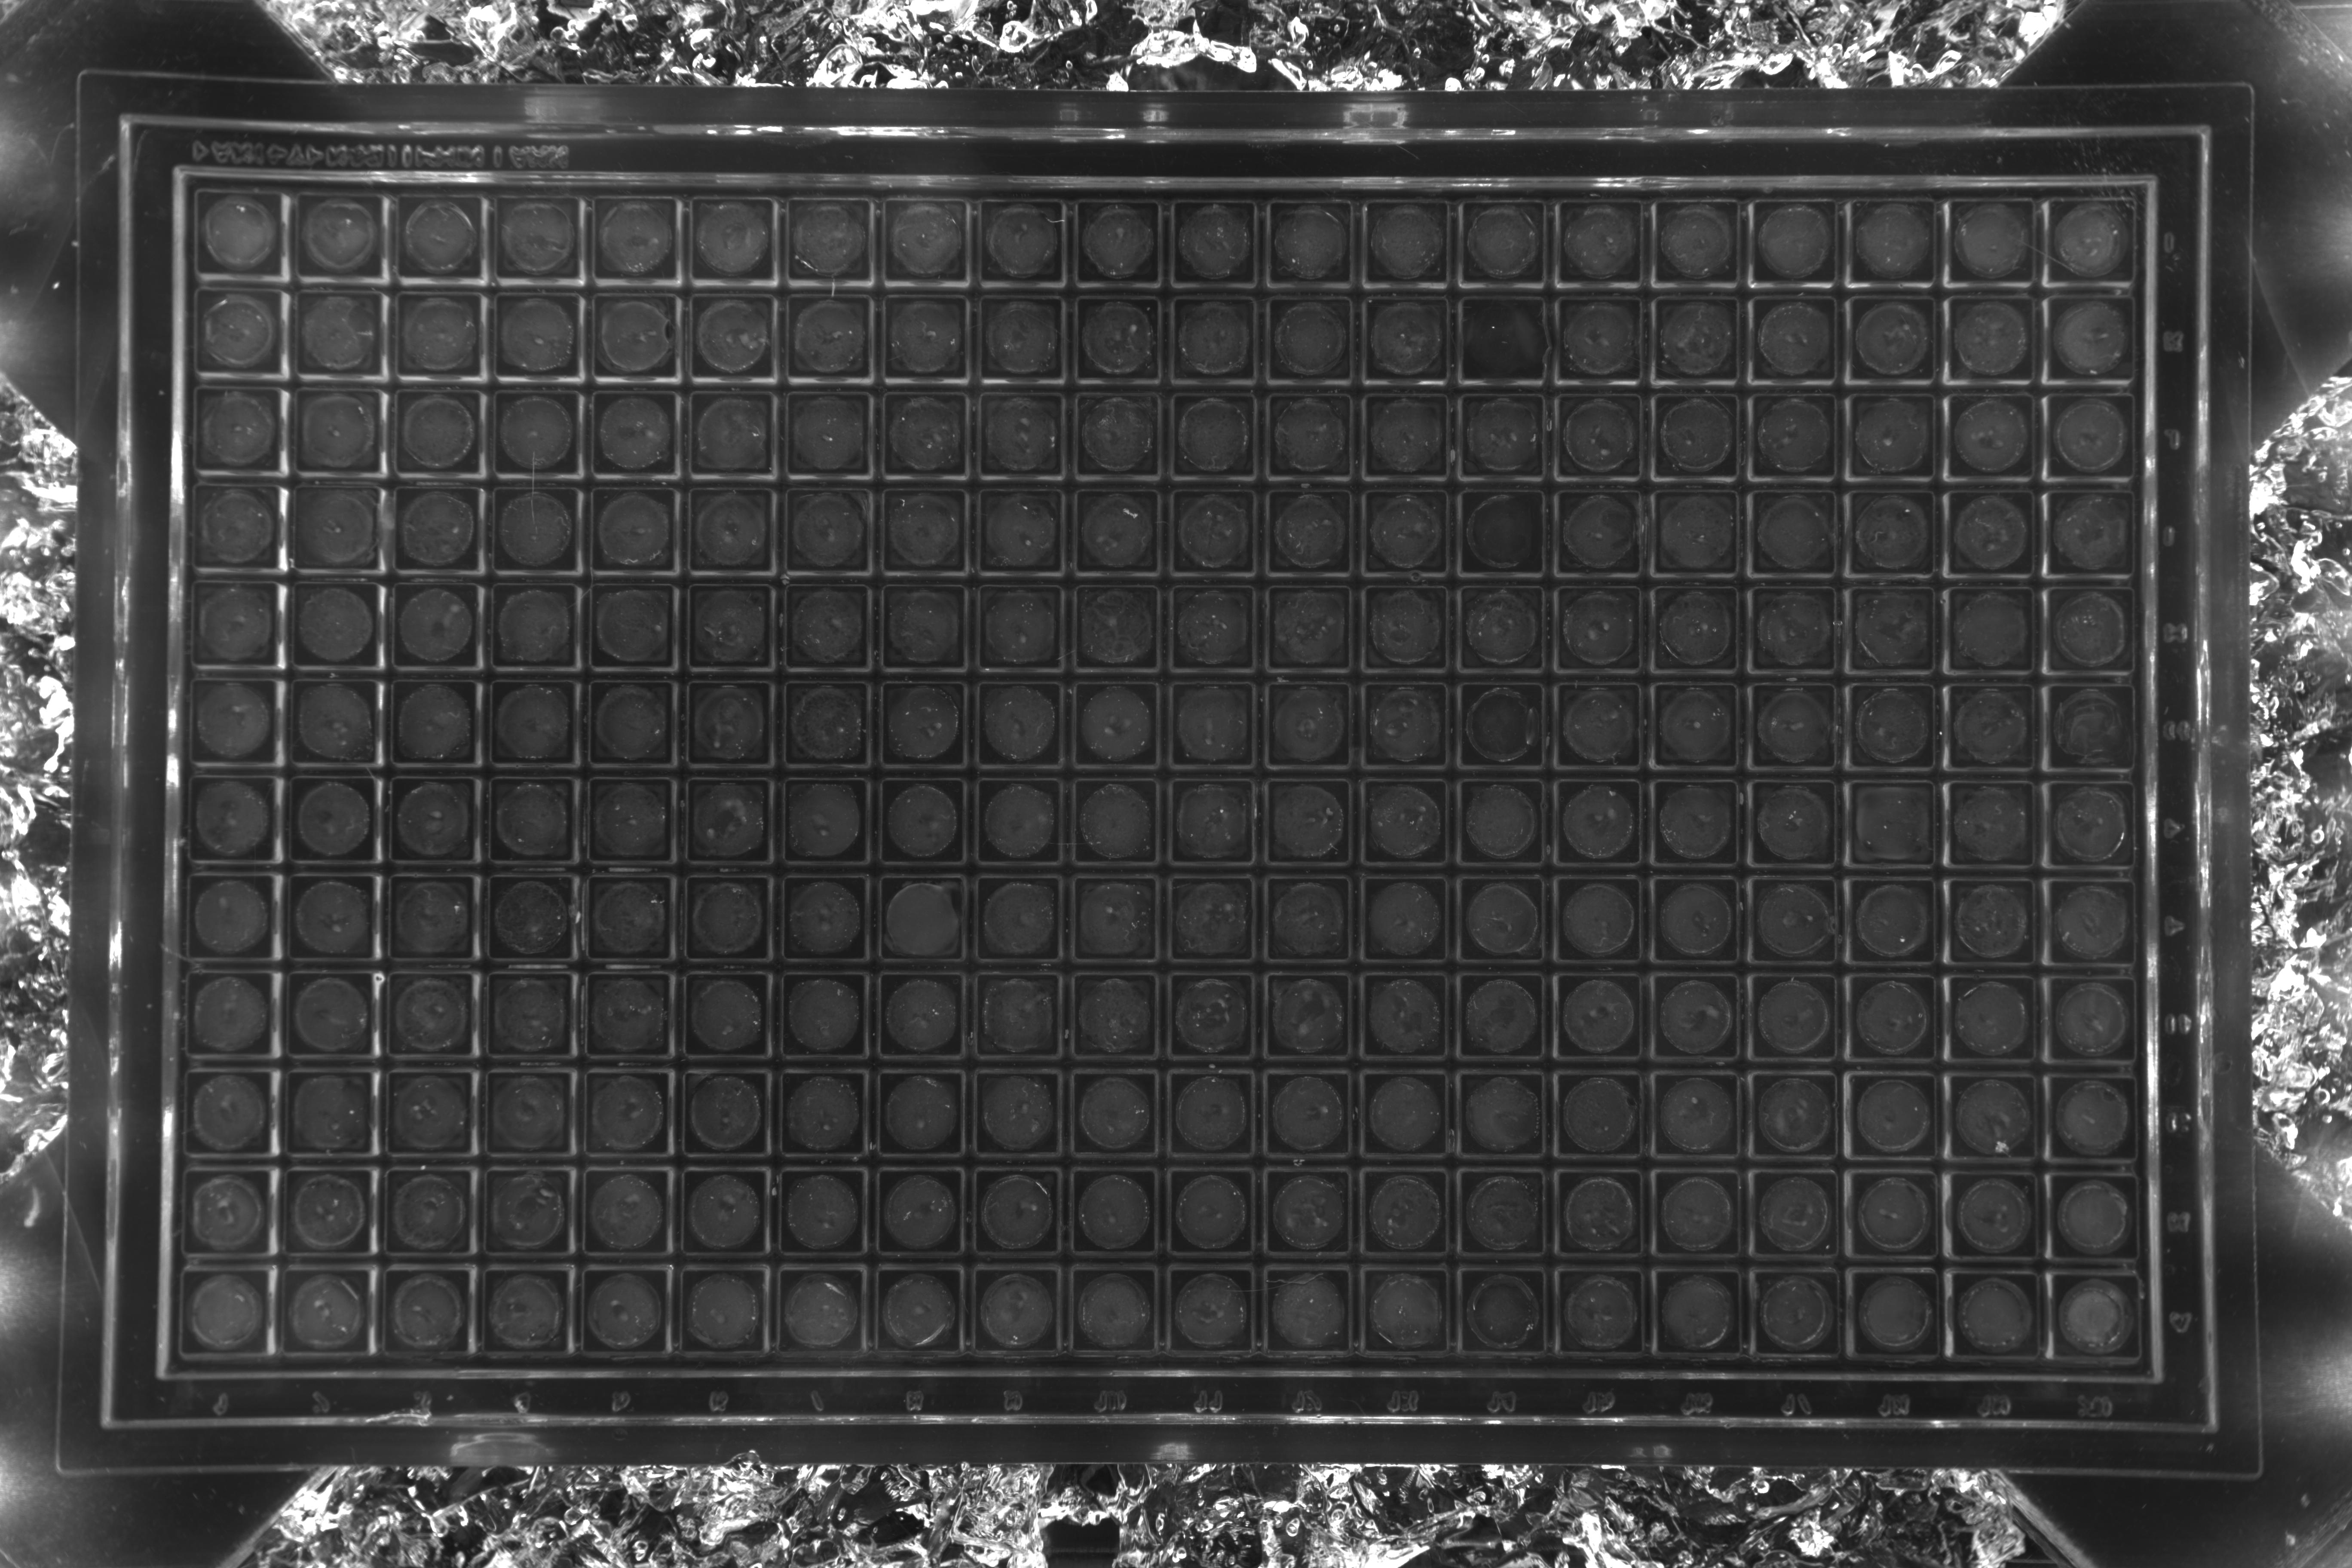WM_well: (299, 845, 388, 933), (492, 1043, 581, 1130), (493, 945, 583, 1032), (497, 266, 586, 353), (497, 556, 586, 644), (588, 1143, 677, 1230), (591, 945, 681, 1032), (786, 1043, 875, 1130), (301, 749, 388, 836), (303, 264, 390, 352), (401, 360, 488, 448), (684, 1339, 772, 1426), (686, 1241, 773, 1328), (787, 947, 875, 1034), (887, 269, 975, 357), (1274, 1241, 1361, 1328), (1370, 850, 1458, 938), (1568, 1244, 1655, 1332), (1568, 1344, 1655, 1431), (1857, 366, 1944, 453), (1962, 1052, 2049, 1139), (2056, 464, 2144, 551)
